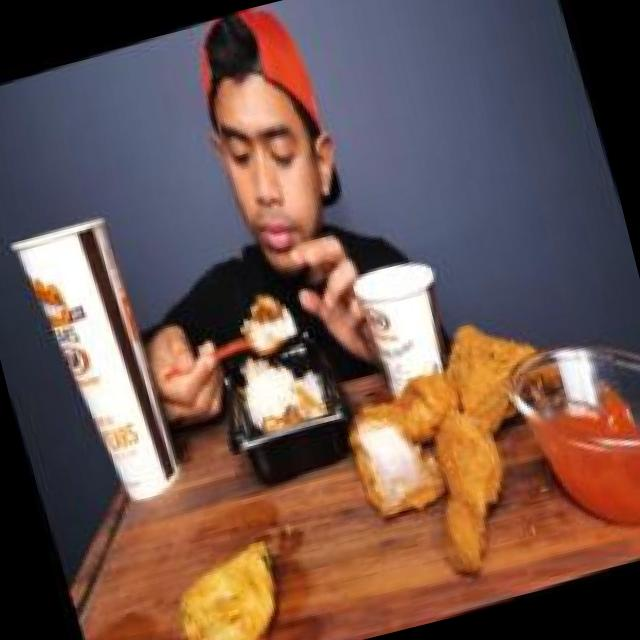AW cola: (0, 184, 199, 539)
black pepper rice bowl: (215, 297, 356, 478)
crispy corn: (344, 237, 483, 410)
fried chicken: (316, 294, 590, 588)
perkedel: (144, 513, 305, 640)
